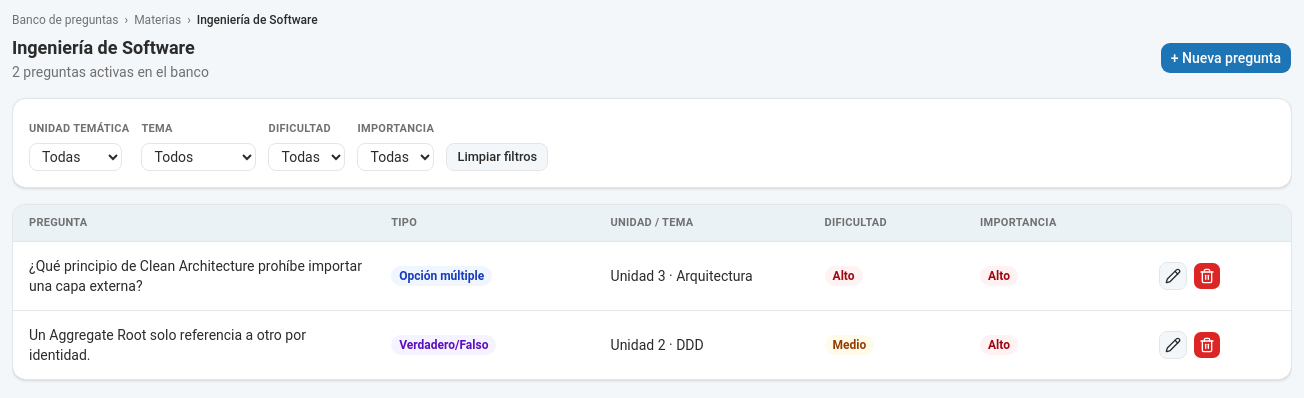
Test: Banco › filtrar por dificultad dispara una nueva consulta con ese filtro
Expected: the text "¿Qué principio de Clean Architecture" is shown, top-left (29, 258), bottom-right (362, 294)
Select "Alto" in the dropdown labelled "Dificultad": (307, 157) top-left (268, 143), bottom-right (346, 171)
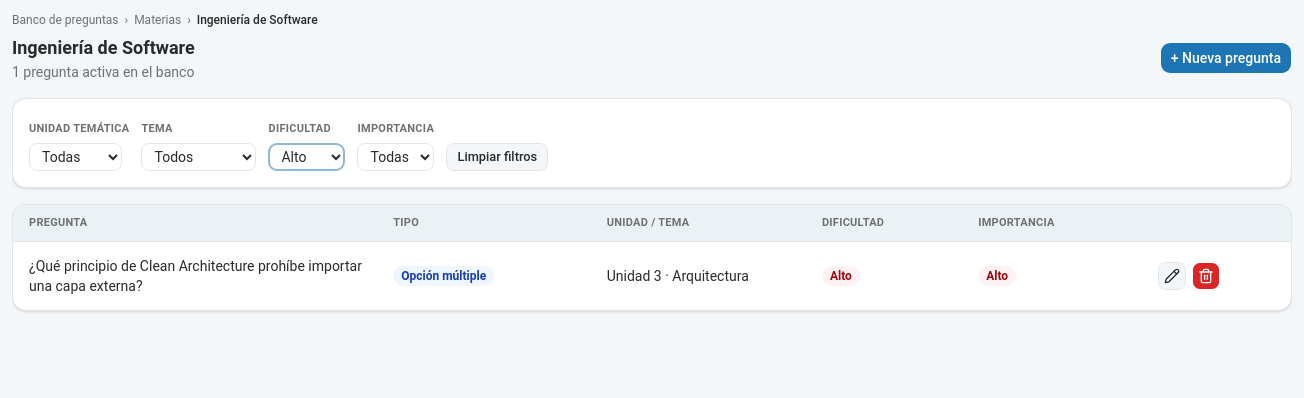
Expected: the text "1 pregunta activa en el banco" is shown, top-left (12, 62), bottom-right (195, 82)
